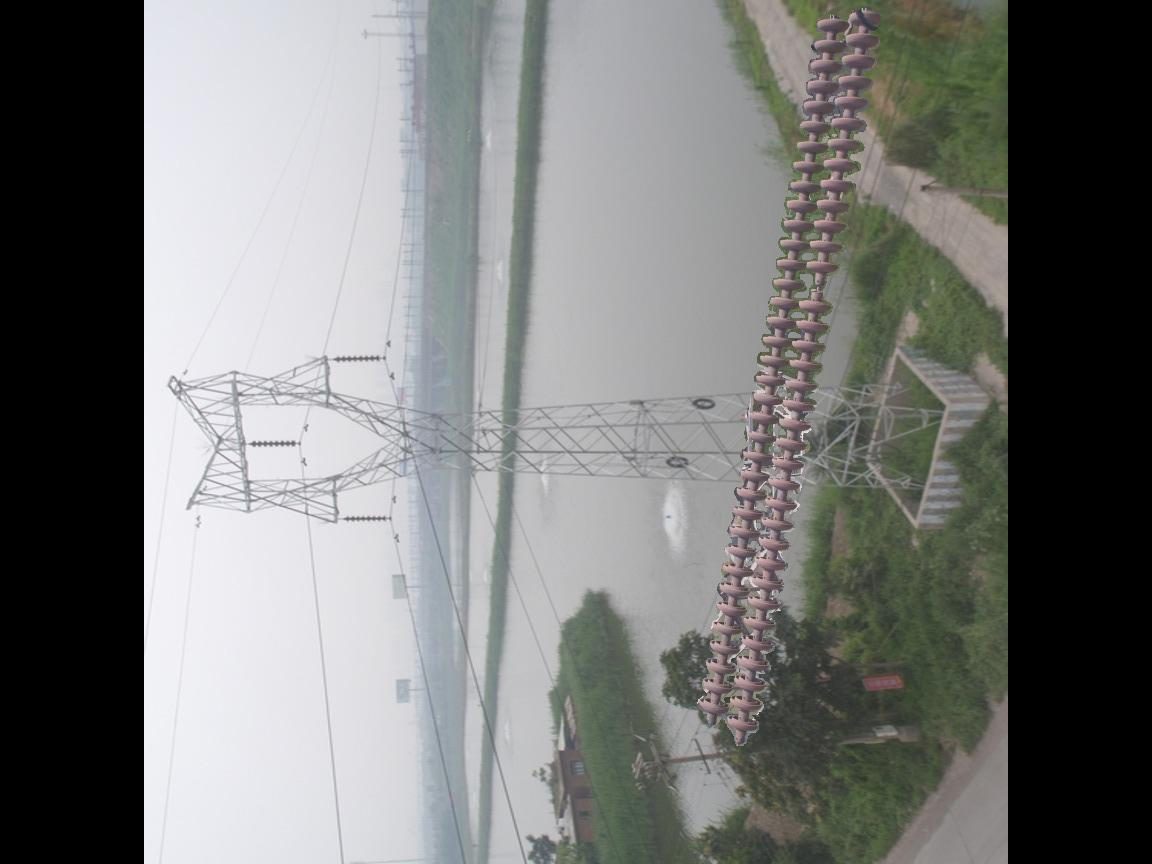insulator: (689, 1, 882, 746), (247, 435, 301, 452), (331, 349, 385, 365), (337, 511, 391, 527)
insulator_stringdrop: (793, 256, 842, 317)
